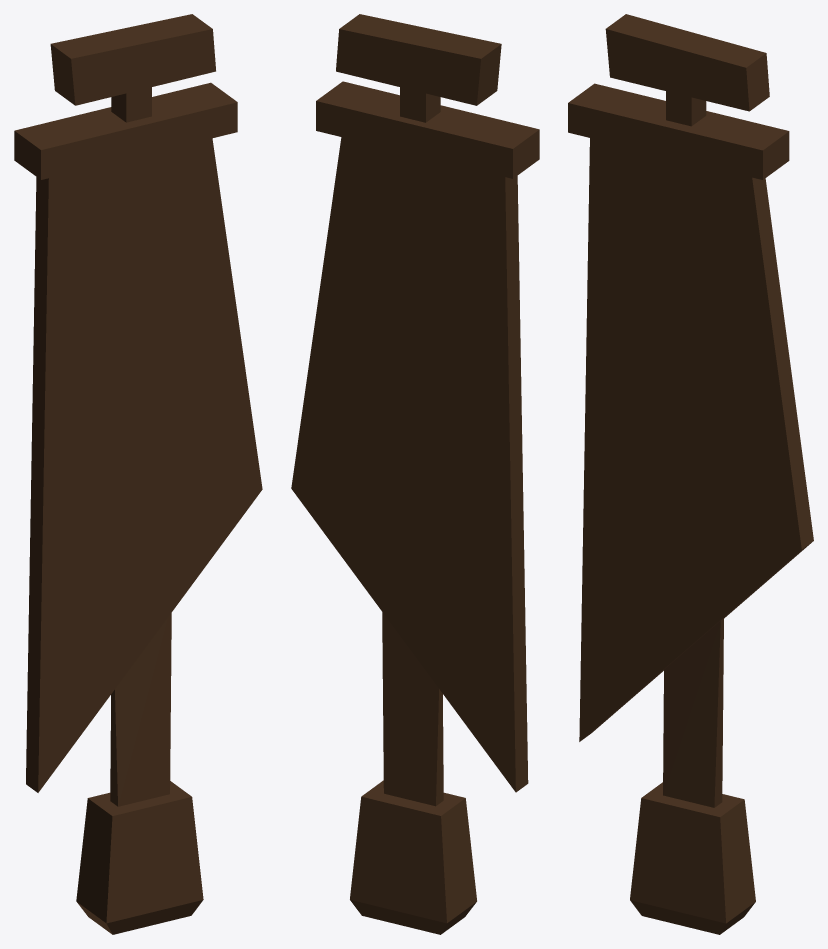
File: Tribal_Plains_Hanging_Charm_Decoration_Timber_Wood_02.fbx
3 renders of one model, left to right at view 1: azimuth 30°, elevation 25°; view 2: azimuth 150°, elevation 25°; view 3: azimuth 330°, elevation 25°, orthographic.
Visible parts, largest first — view 1: Tribal_Plains_Hanging_Charm_Decoration_Timber_Wood_02; view 2: Tribal_Plains_Hanging_Charm_Decoration_Timber_Wood_02; view 3: Tribal_Plains_Hanging_Charm_Decoration_Timber_Wood_02.
Boxes of the visible parts, left/top/right/bottom form: Tribal_Plains_Hanging_Charm_Decoration_Timber_Wood_02: left=14, top=14, right=262, bottom=934; Tribal_Plains_Hanging_Charm_Decoration_Timber_Wood_02: left=291, top=14, right=539, bottom=934; Tribal_Plains_Hanging_Charm_Decoration_Timber_Wood_02: left=568, top=14, right=813, bottom=934.
Size of the model in its own units: 0.3001 by 1.11 by 0.0686.
